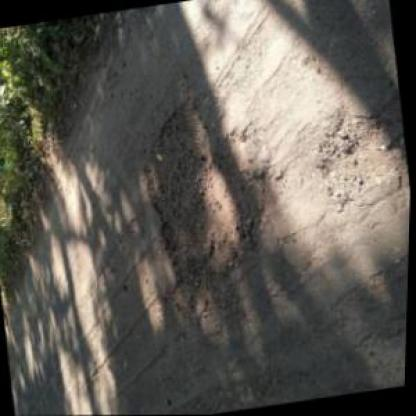pothole: (133, 85, 301, 316), (312, 102, 413, 210)
